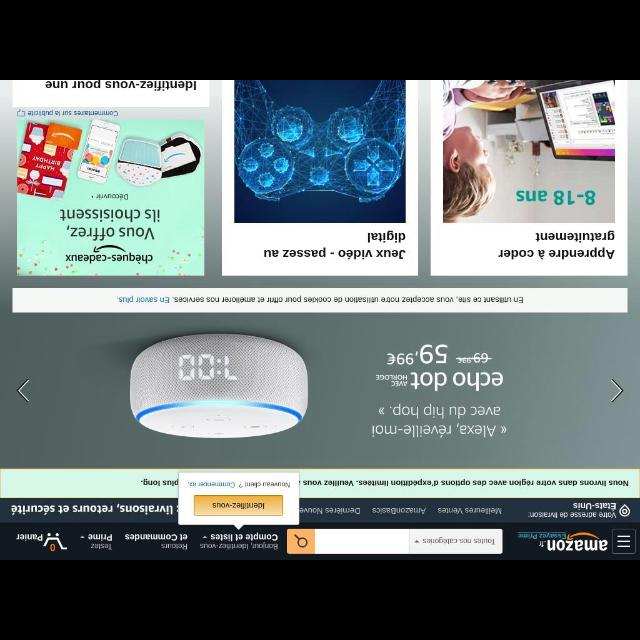backgroundimage: (1, 81, 640, 468)
button: (612, 529, 636, 555), (287, 530, 313, 552)
icon: (44, 532, 68, 554), (610, 378, 624, 402), (16, 379, 29, 403), (294, 534, 308, 548), (618, 534, 630, 548), (620, 504, 630, 516), (17, 109, 25, 117), (202, 534, 208, 540), (414, 538, 420, 542), (80, 534, 84, 540)
image: (18, 118, 204, 276), (443, 81, 614, 223), (234, 81, 406, 222), (518, 530, 608, 552)
input: (314, 530, 408, 552)
link: (518, 532, 564, 538)
multitab: (300, 500, 514, 522)
spinner: (408, 530, 502, 554), (199, 532, 279, 542), (78, 532, 112, 552)
text: (372, 402, 506, 438), (264, 230, 406, 260), (116, 294, 524, 304), (498, 230, 616, 260), (303, 478, 629, 487), (11, 502, 173, 516), (409, 371, 503, 392), (46, 81, 196, 91), (388, 344, 448, 364), (124, 534, 186, 552), (188, 480, 290, 488), (422, 536, 496, 546), (199, 541, 277, 549), (28, 110, 118, 116), (528, 512, 616, 518), (211, 533, 277, 541), (438, 507, 502, 515), (372, 506, 426, 514), (88, 533, 112, 551), (572, 502, 616, 511), (456, 352, 492, 363), (376, 375, 408, 387), (300, 508, 360, 514), (141, 478, 179, 487), (16, 534, 42, 542)
textbutton: (194, 495, 282, 515)
toolbar: (2, 524, 640, 558)
